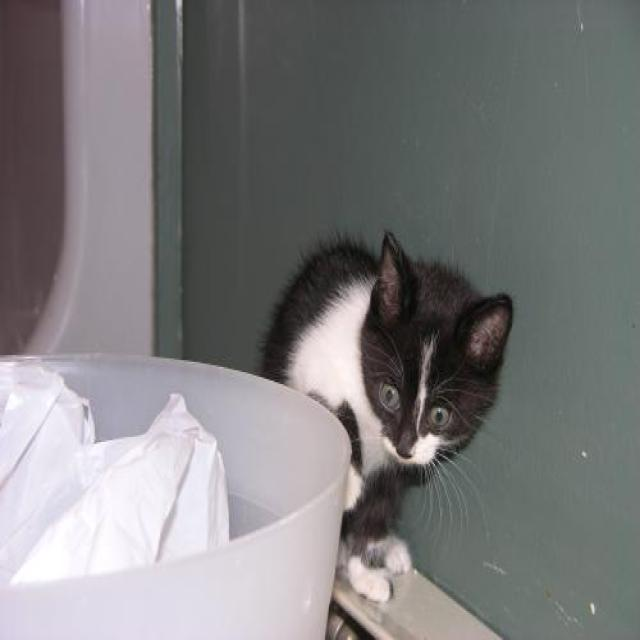Cats: (257, 228, 514, 602)
